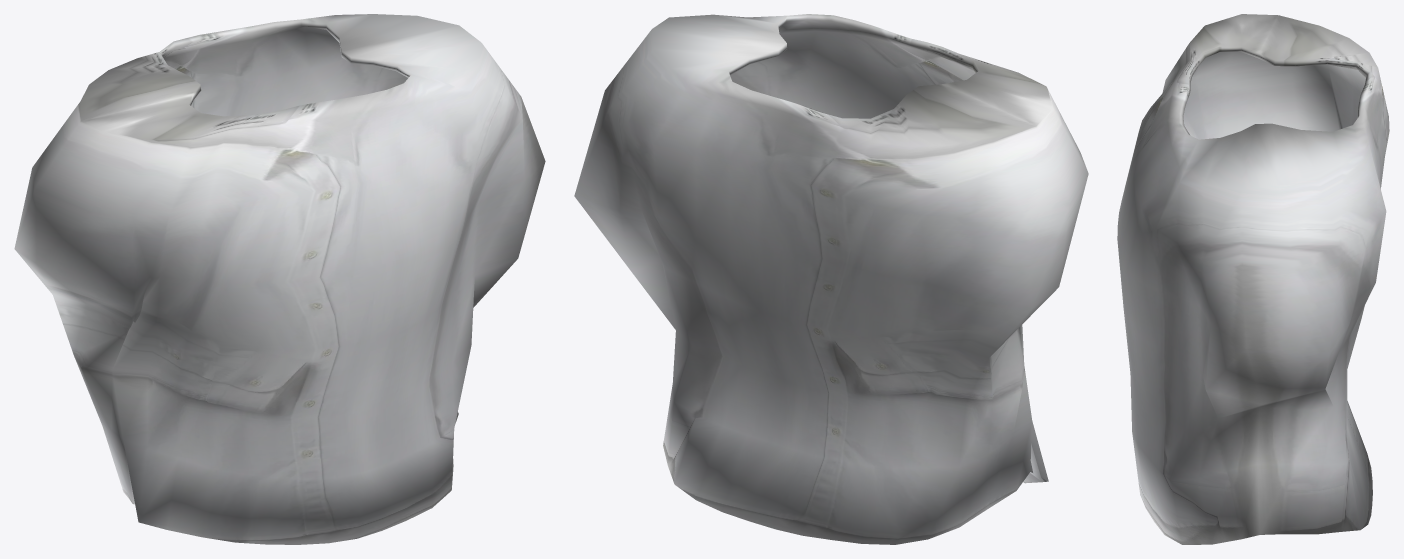
Rendered from ce42f50a-6ff8-4ab3-9c0b-edd02a704bd6.glb.
3 renders of one model, left to right at view 1: azimuth 30°, elevation 25°; view 2: azimuth 150°, elevation 25°; view 3: azimuth 270°, elevation 25°, orthographic. The views are drawn at different scales.
Parts seen in each view (by area): view 1: garment; view 2: garment; view 3: garment.
Part boxes in pixels (x1,y1,x2,y2): garment: (14, 14, 545, 544); garment: (574, 14, 1088, 544); garment: (1117, 14, 1389, 544).
Size of the model in its own units: 0.581 by 0.4833 by 0.3001.
1 material, 1 textured.
